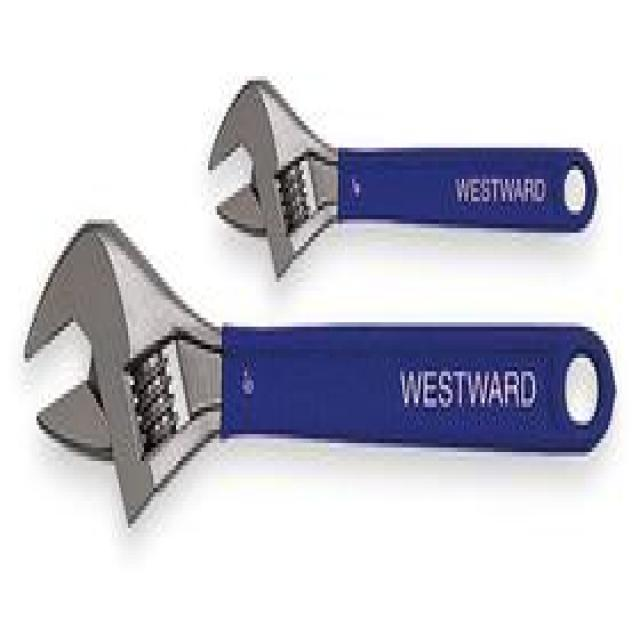wrench: (5, 209, 640, 577), (198, 56, 599, 290)
